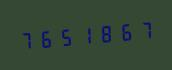eight: (93, 19, 111, 47)
five: (55, 22, 73, 51)
one: (74, 21, 92, 49)
seven: (17, 26, 35, 54), (131, 16, 149, 44)
six: (112, 17, 130, 46), (36, 24, 54, 52)
